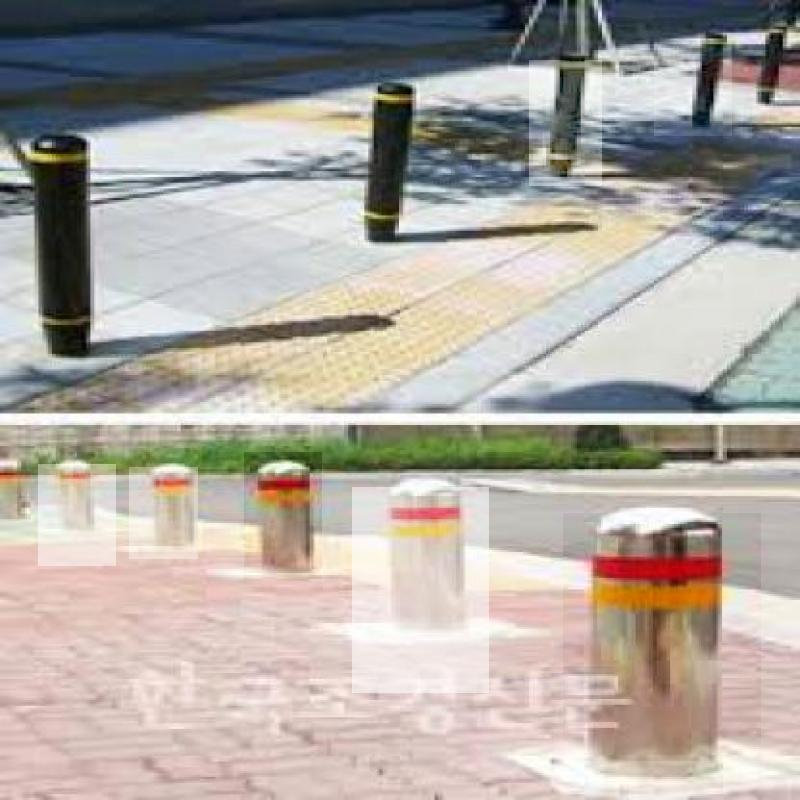bolard: (564, 514, 762, 762), (0, 125, 120, 390), (352, 487, 489, 693), (318, 81, 490, 240), (244, 452, 322, 579), (529, 60, 602, 186), (38, 464, 116, 566), (654, 43, 732, 136), (129, 467, 198, 559)
